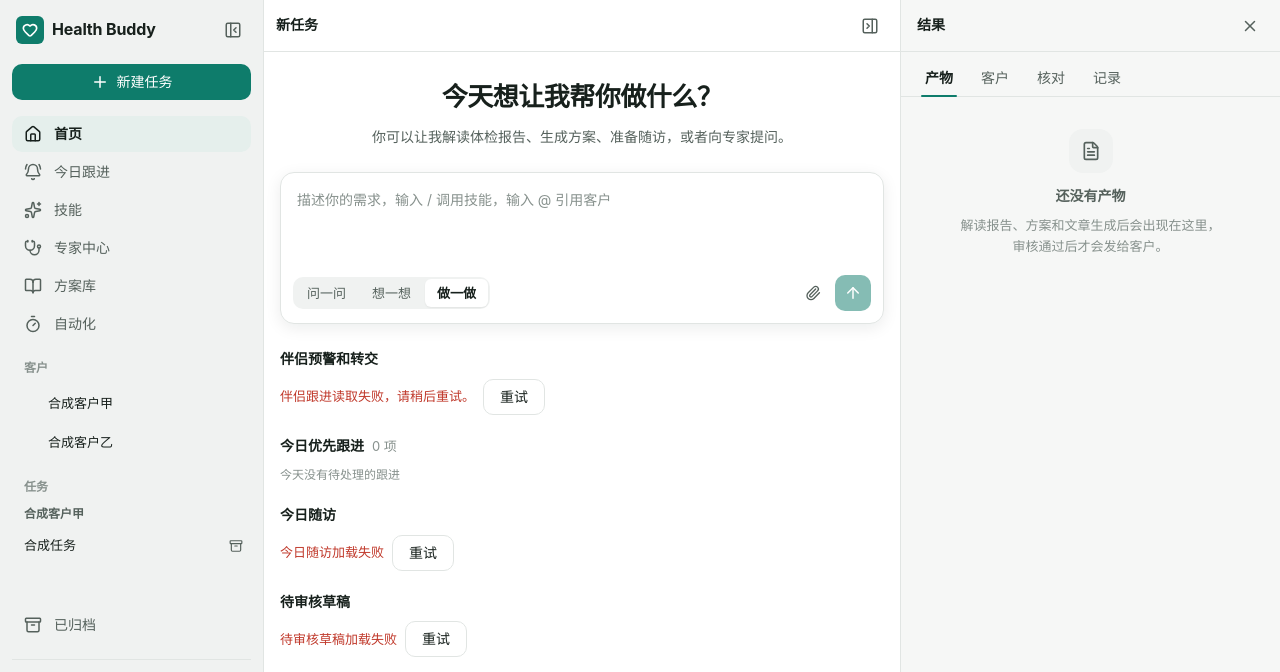
Test case: 外壳：从孪生回到对话区 › 客户没有可用任务时新建“孪生 · 心血管（日期）”任务，输入框预先填好请专家看看
The width and height of the screenshot is (1280, 672).
Click the button "合成客户乙" at (68, 442), box [12, 424, 125, 461]
(page scrolled)
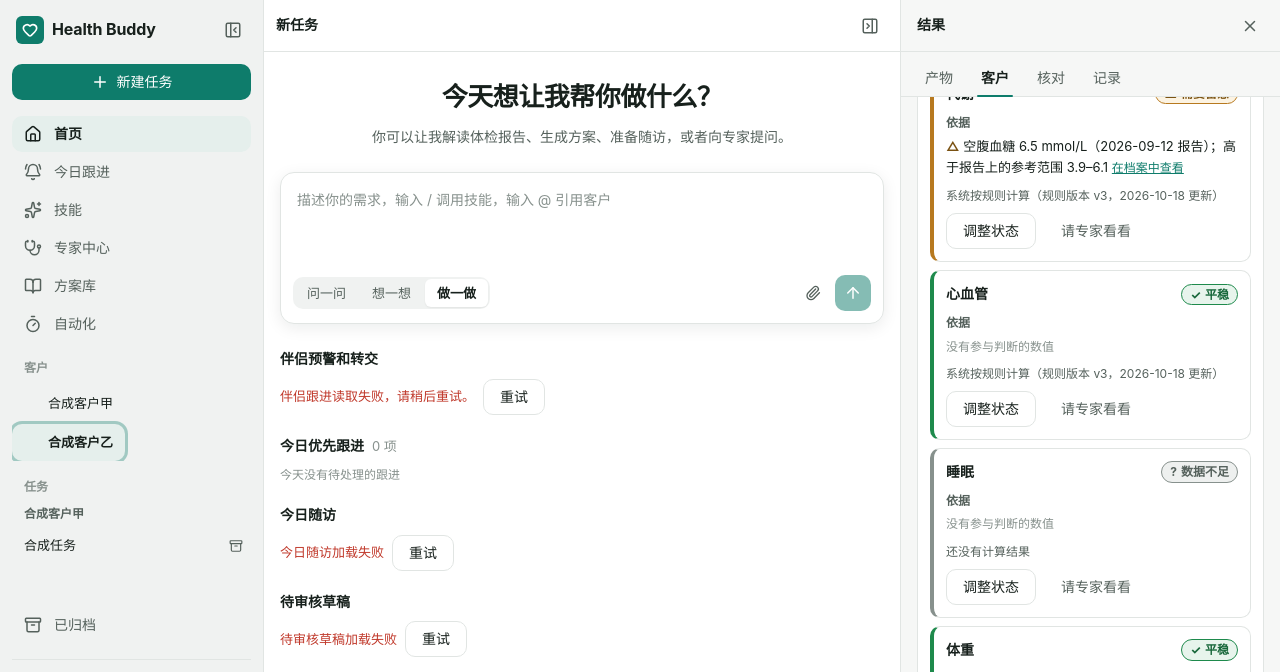
Click the button with aria-label "请专家看看 心血管" at (1096, 409), box [1044, 391, 1148, 427]
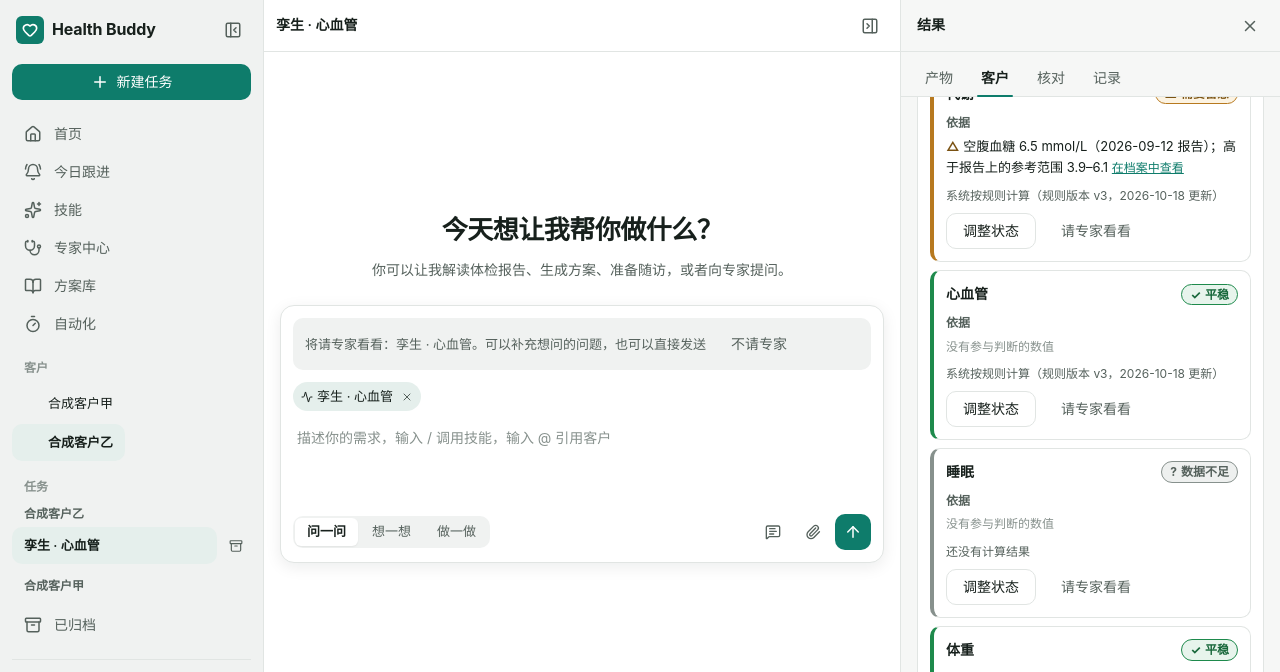
Expected: the text "将请专家看看：孪生 · 心血管。可以补充想问的问题，也可以直接发送" is shown, [305, 334, 706, 355]
